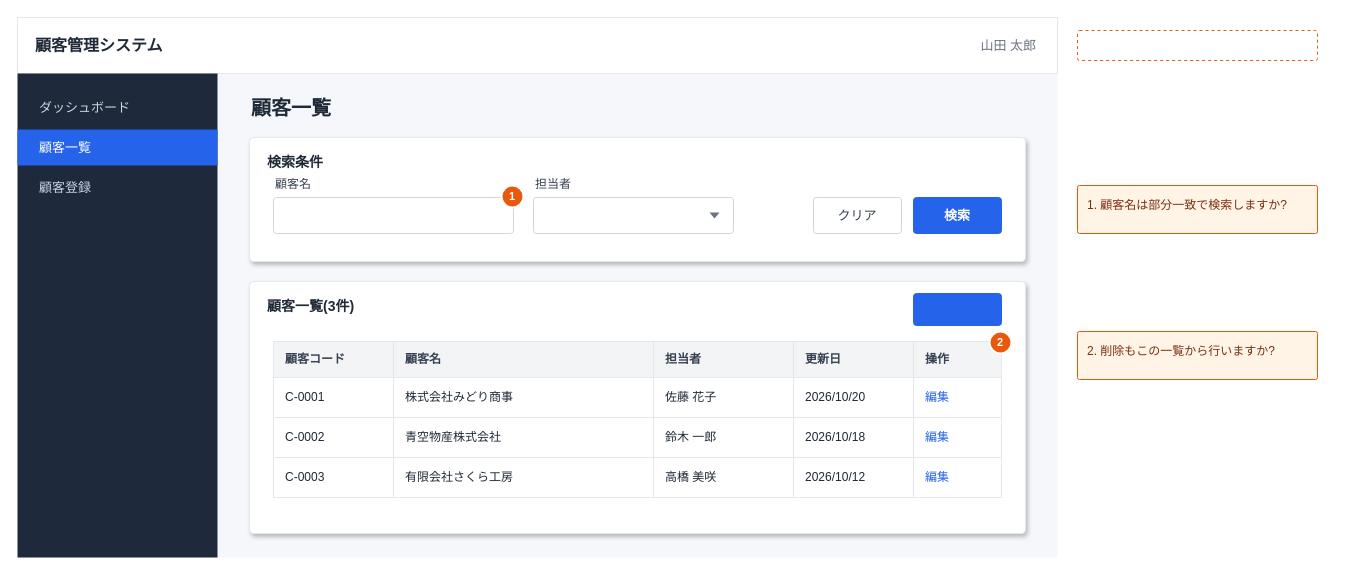
This 1355x575 diagram has some shape labels left out. Each missing label, with the centre of its shape:
"すべて" goes at (633,215).
"例: 株式会社サンプル" goes at (393,215).
"新規登録" goes at (957,309).
"画面イメージ(デザインは未確定)" goes at (1197,45).
